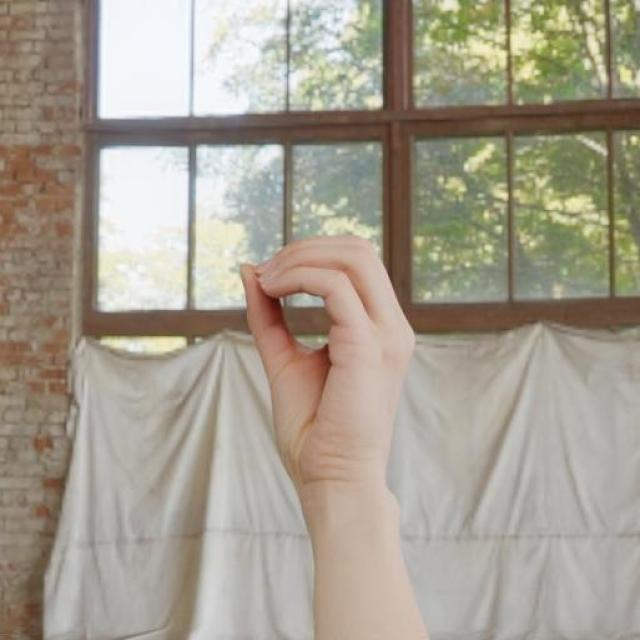O: (236, 233, 418, 495)
